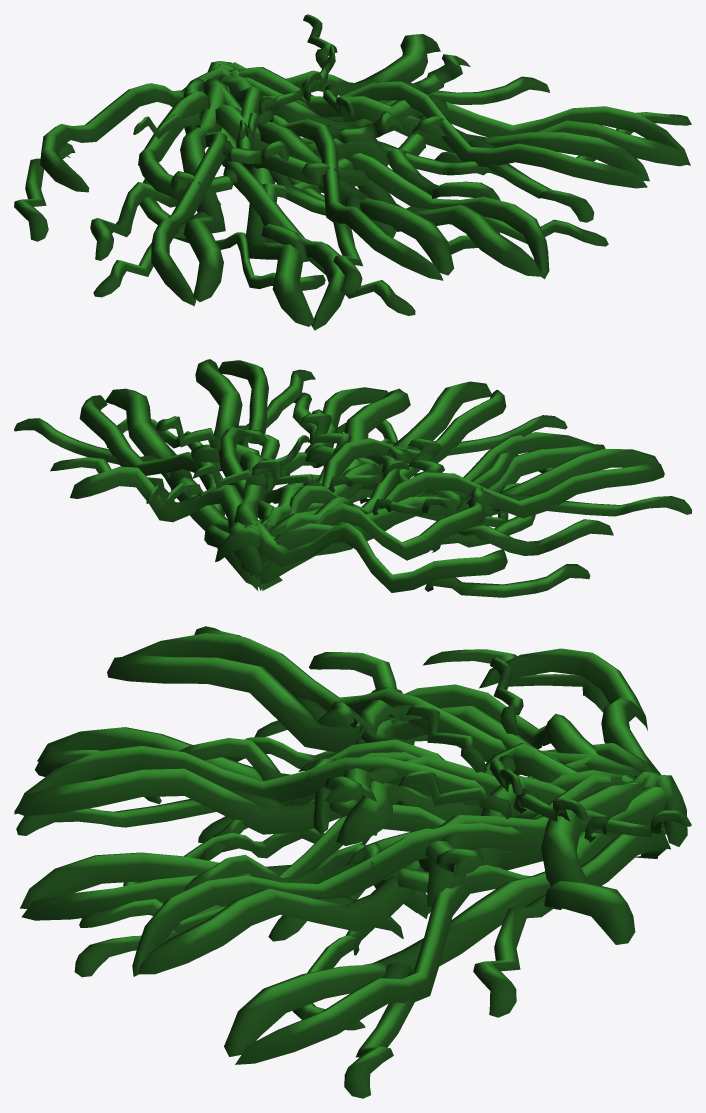
Rendered from vine4.fbx.
3 views of the same model, one above another, from view 1: azimuth 30°, elevation 25°; view 2: azimuth 150°, elevation 25°; view 3: azimuth 270°, elevation 25° (orthographic). The views are drawn at different scales.
Parts seen in each view (by area): view 1: pCube168; view 2: pCube168; view 3: pCube168.
Boxes of the visible parts, bbox=[...] form: pCube168: bbox=[14, 14, 691, 330]; pCube168: bbox=[14, 359, 691, 597]; pCube168: bbox=[14, 626, 691, 1098].
Size of the model in its own units: 203 by 26.7 by 136.
